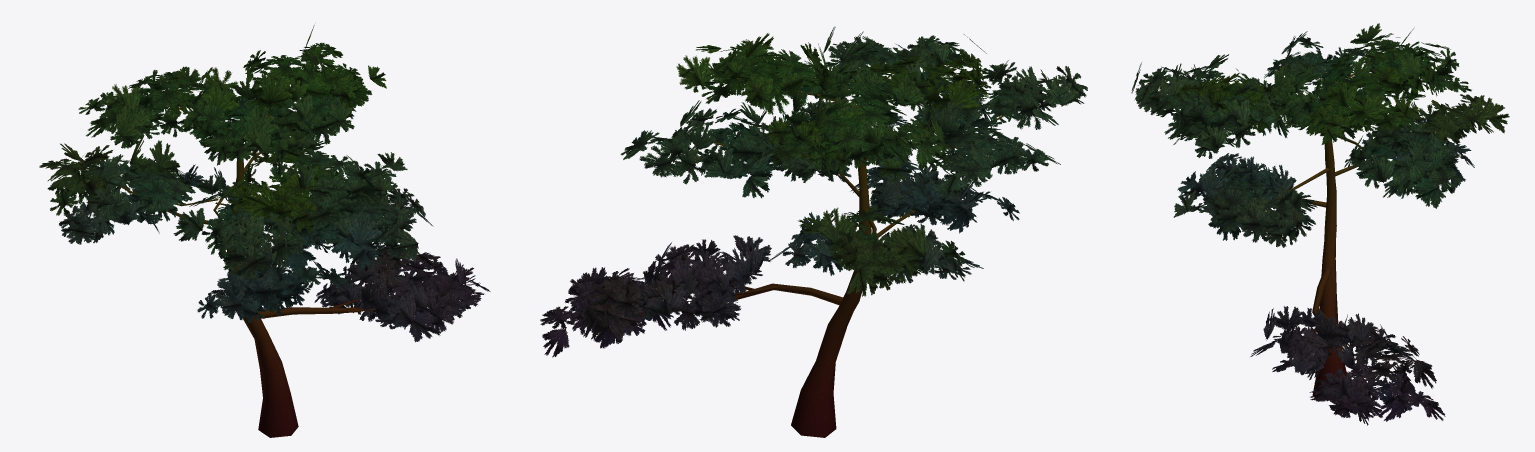
File: pine_1.lod1.glb
3 renders of one model, left to right at view 1: azimuth 30°, elevation 25°; view 2: azimuth 150°, elevation 25°; view 3: azimuth 270°, elevation 25°, orthographic. The views are drawn at different scales.
Parts seen in each view (by area): view 1: pine_1.lod1; view 2: pine_1.lod1; view 3: pine_1.lod1.
Boxes of the visible parts, bbox=[...] form: pine_1.lod1: bbox=[39, 25, 490, 437]; pine_1.lod1: bbox=[540, 26, 1087, 437]; pine_1.lod1: bbox=[1131, 23, 1509, 425].
Bounding box in the file's own units: 17.03 × 13.68 × 14.06.
2 materials, 2 textured.
